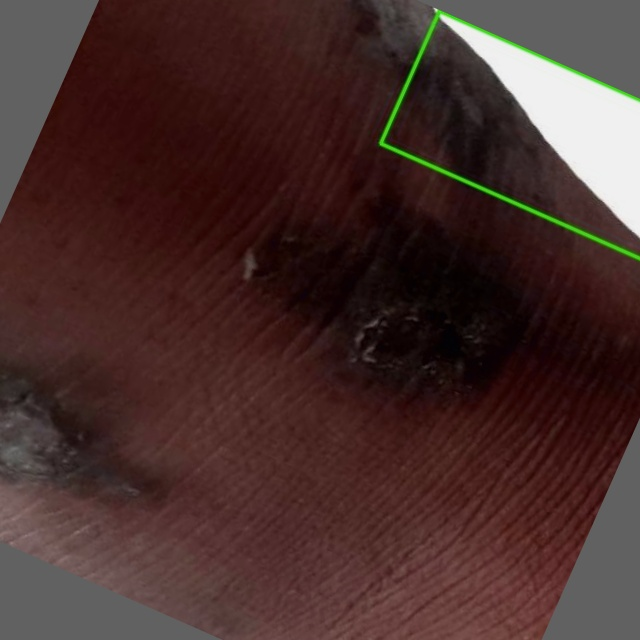Contact Dermatitis: (380, 10, 639, 258)
